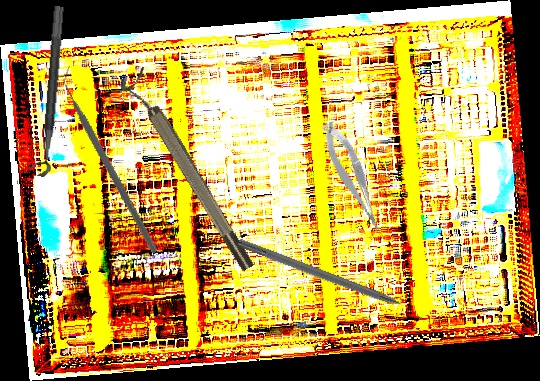Chopper: (9, 65, 215, 254)
Fixation Ring: (117, 66, 258, 279), (24, 4, 65, 178)
Hook Surgical: (236, 237, 422, 319)
Micro Scissor: (318, 116, 386, 240)
